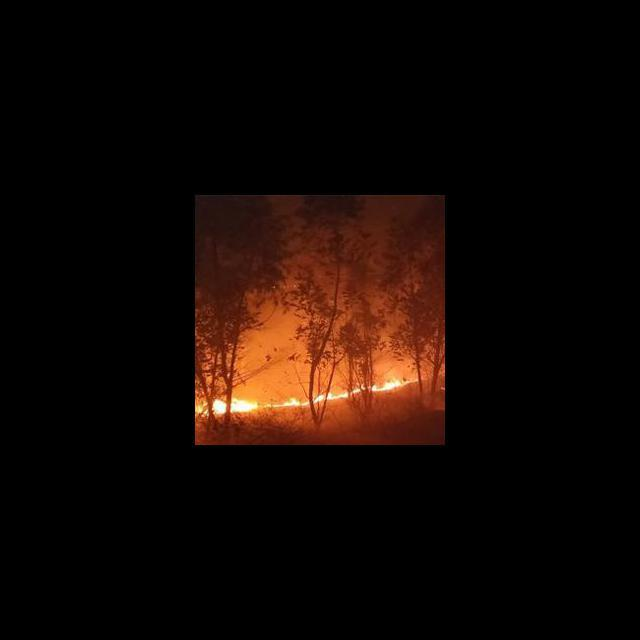Fire: (199, 377, 415, 416)
